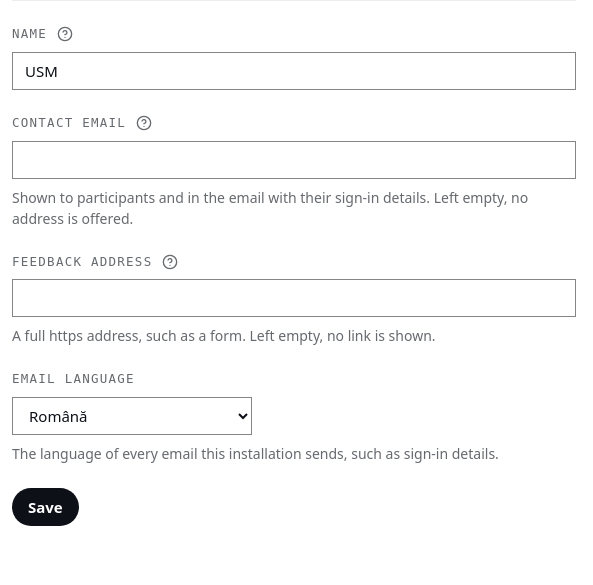
Scenario: SettingsForm, the API's refusal of the feedback address › is shown under the field, not as a form-level failure
This screenshot has width=593, height=585.
In the field labelled "Feedback address": {"x": 294, "y": 298} [12,279,576,317], type "https://forms.gle/beta"
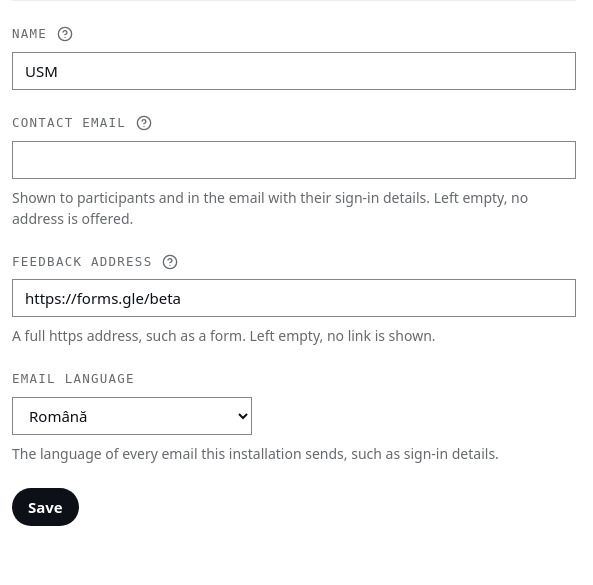
Click the button "Save": {"x": 45, "y": 507} [12,488,79,526]
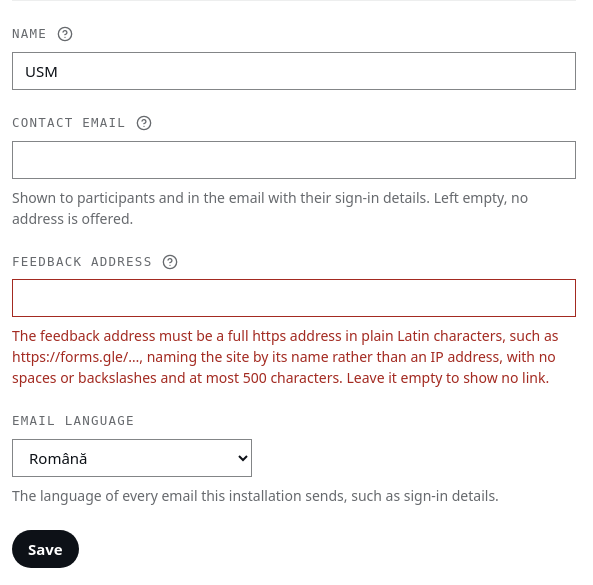
expect the message shows "The feedback address must be a full https address in plain Latin characters, such as https://forms.gle/…, naming the site by its name rather than an IP address,": met, box [12,326,558,387]
expect the number of messages is 1: met, box [12,325,576,388]
